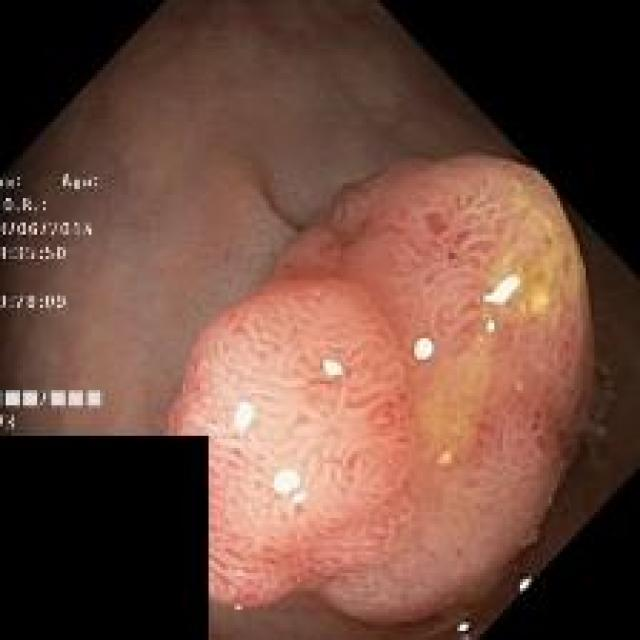Polyps: (170, 156, 594, 625)
